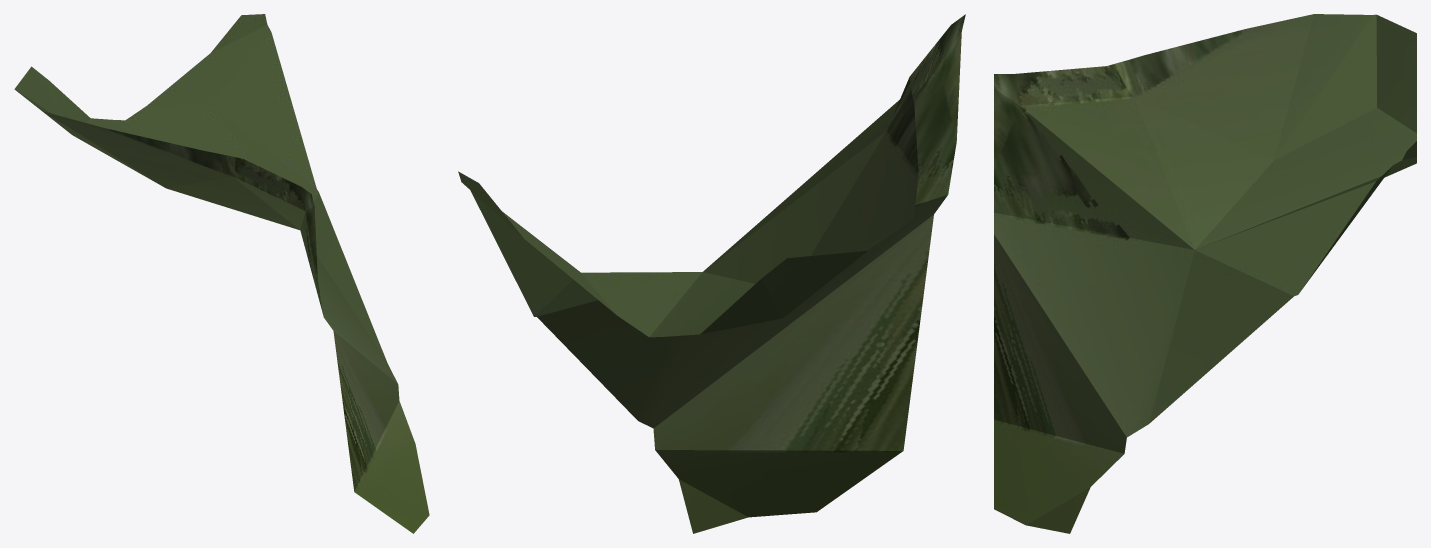
3 renders of one model, left to right at view 1: azimuth 30°, elevation 25°; view 2: azimuth 150°, elevation 25°; view 3: azimuth 270°, elevation 25°, orthographic. The views are drawn at different scales.
Bounding box in the file's own units: 2.26 × 2.95 × 2.95.
Materials: 3 (3 with a texture image).
